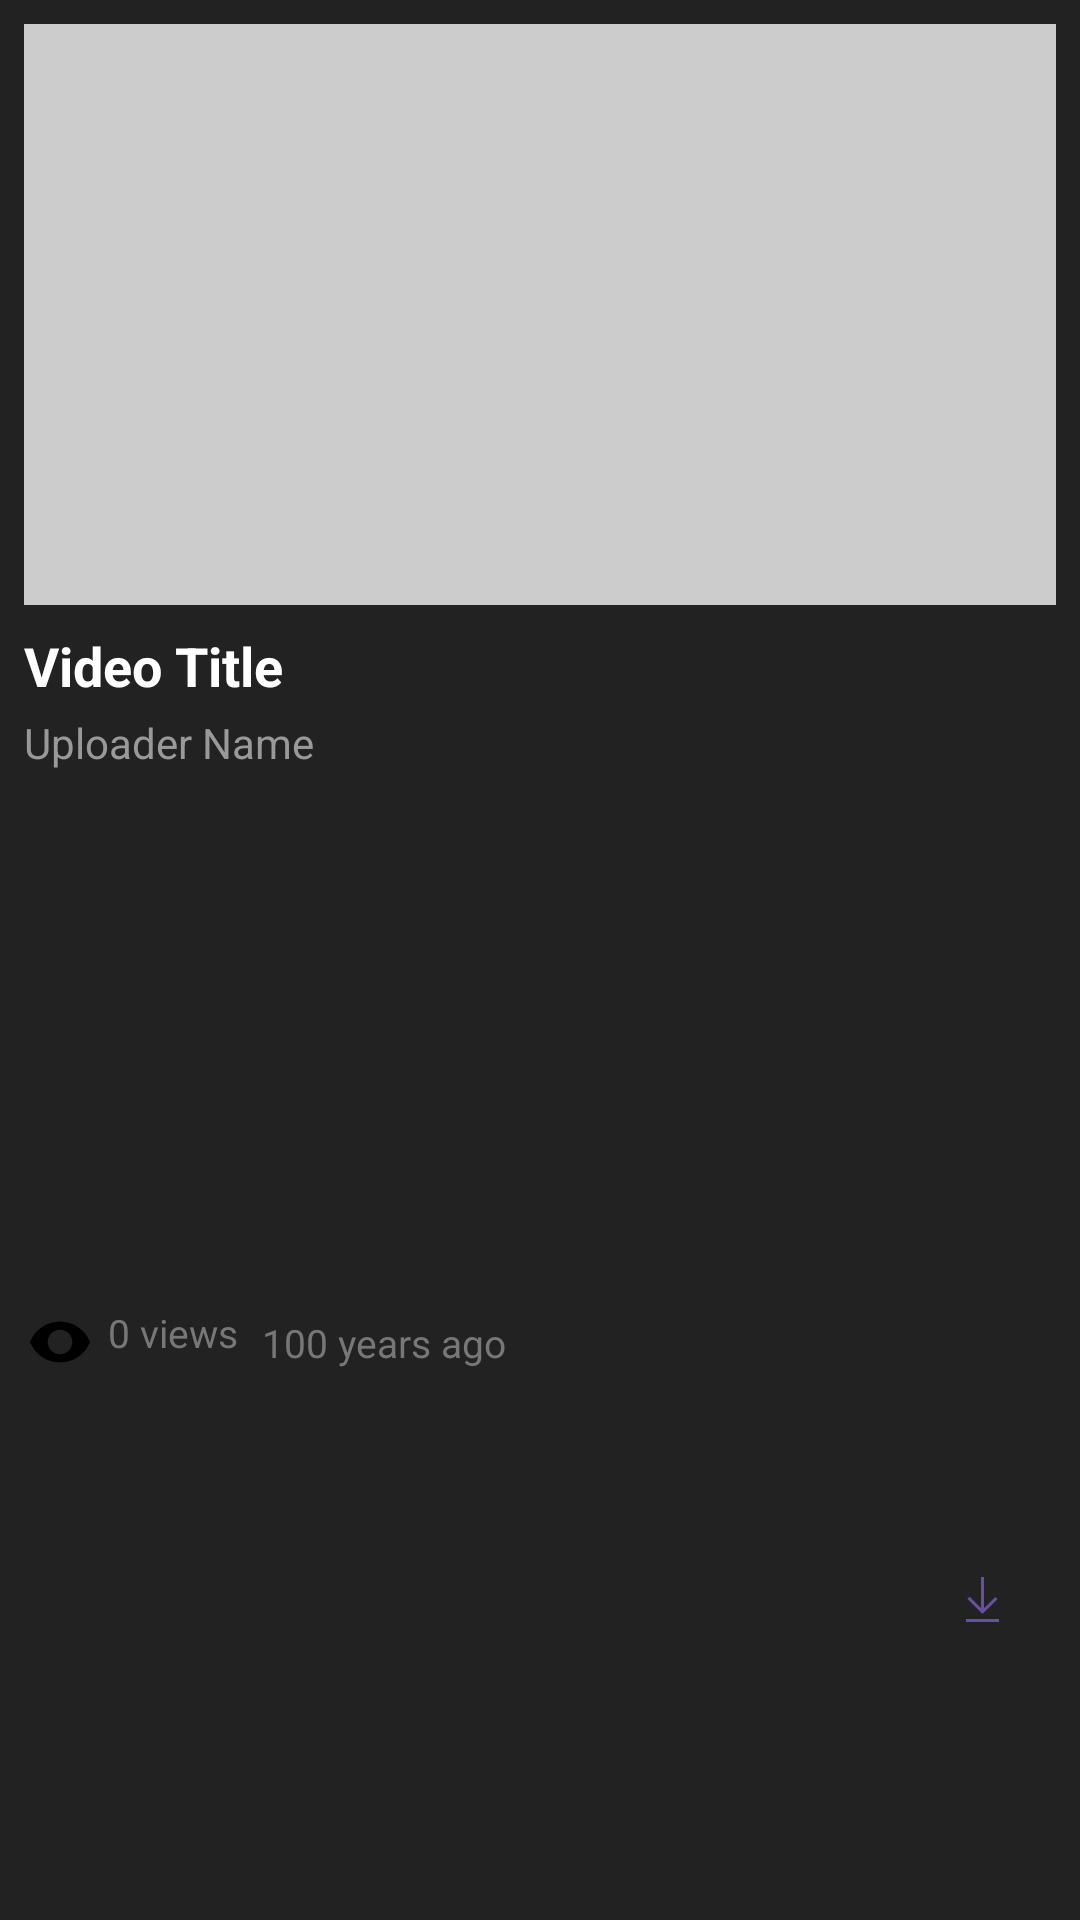

Icons on this 1080×1920 Android screen, each with its box as [x1, y1, x2, y2]:
download: [966, 1577, 999, 1622]
